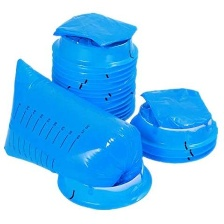plastic_bag: (0, 54, 149, 188), (138, 77, 215, 129), (50, 10, 148, 48)
